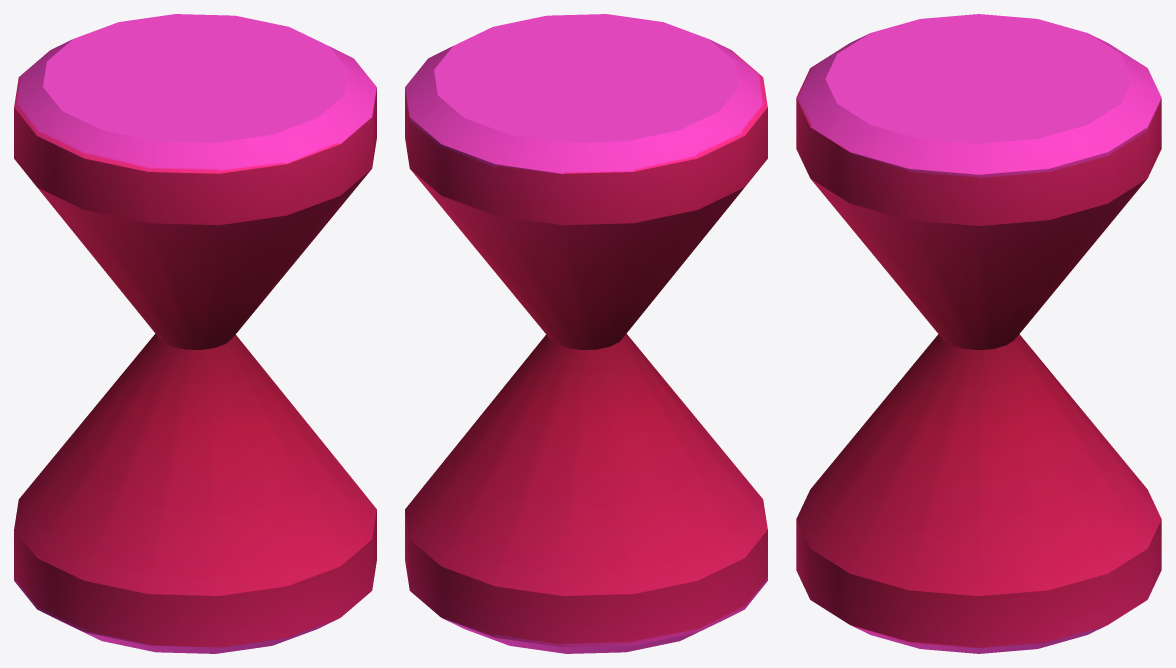
File: diabloRed.fbx
3 views of the same model, side by side, from view 1: azimuth 30°, elevation 25°; view 2: azimuth 150°, elevation 25°; view 3: azimuth 270°, elevation 25° (orthographic).
Visible parts, largest first — view 1: diabloRed; view 2: diabloRed; view 3: diabloRed.
Boxes of the visible parts, x1,y1,x2,y2 form: diabloRed: [14, 14, 376, 653]; diabloRed: [405, 14, 767, 653]; diabloRed: [796, 14, 1161, 653].
Bounding box in the file's own units: 0.0512 × 0.0789 × 0.0512.
